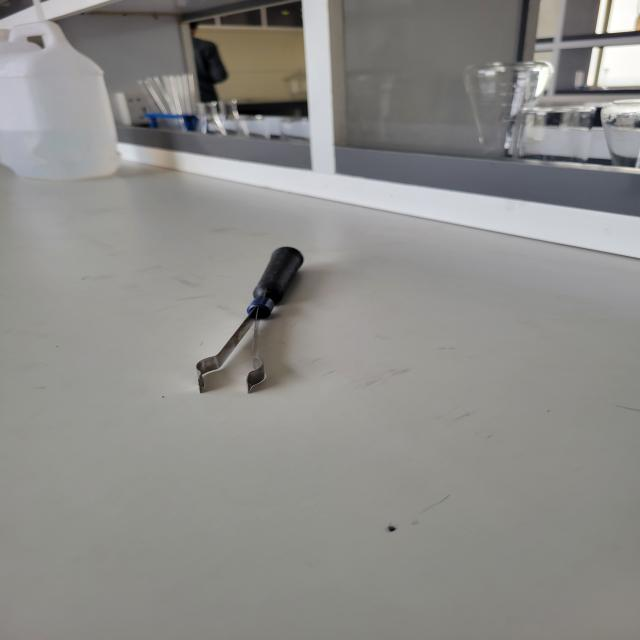TestTube_Holder: (166, 218, 343, 419)
